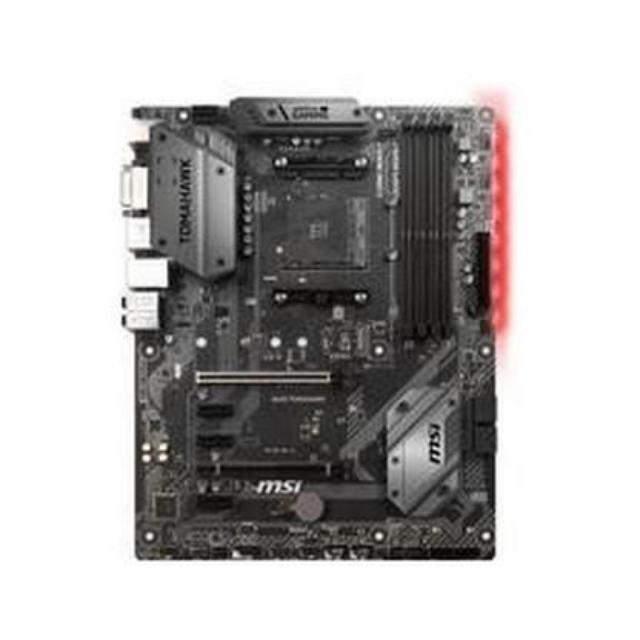Mainboard: (113, 99, 516, 576)
